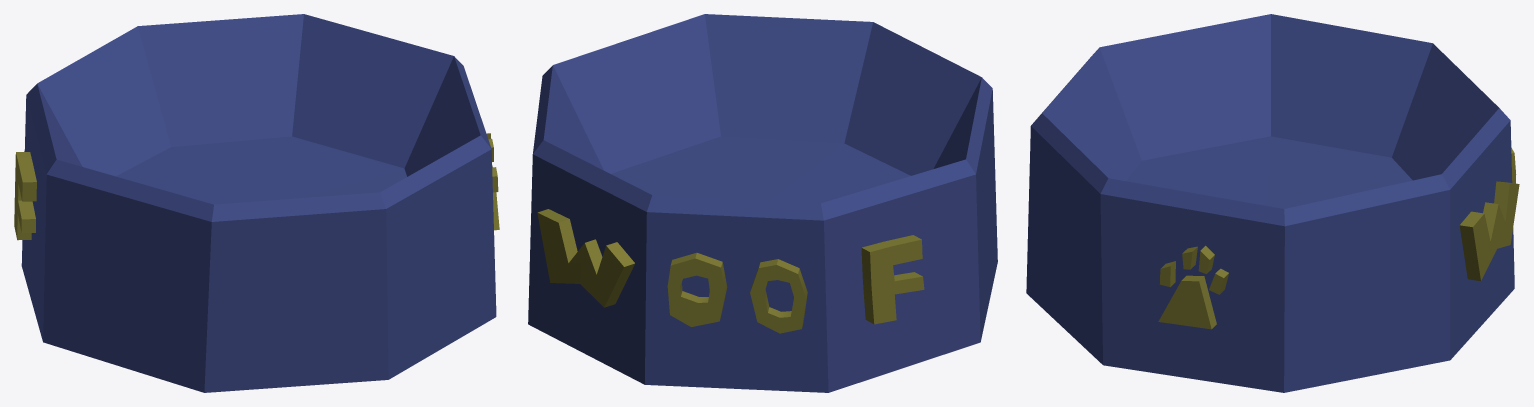
Rendered from Kitchen_2_Bowl.fbx.
3 renders of one model, left to right at view 1: azimuth 30°, elevation 25°; view 2: azimuth 150°, elevation 25°; view 3: azimuth 270°, elevation 25°, orthographic.
Visible parts, largest first — view 1: Kitchen_2_Bowl; view 2: Kitchen_2_Bowl; view 3: Kitchen_2_Bowl.
Part boxes in pixels (<box>): Kitchen_2_Bowl: <box>14,14,499,392</box>; Kitchen_2_Bowl: <box>528,14,997,392</box>; Kitchen_2_Bowl: <box>1026,14,1519,392</box>.
Size of the model in its own units: 34.17 by 13.83 by 34.14.
